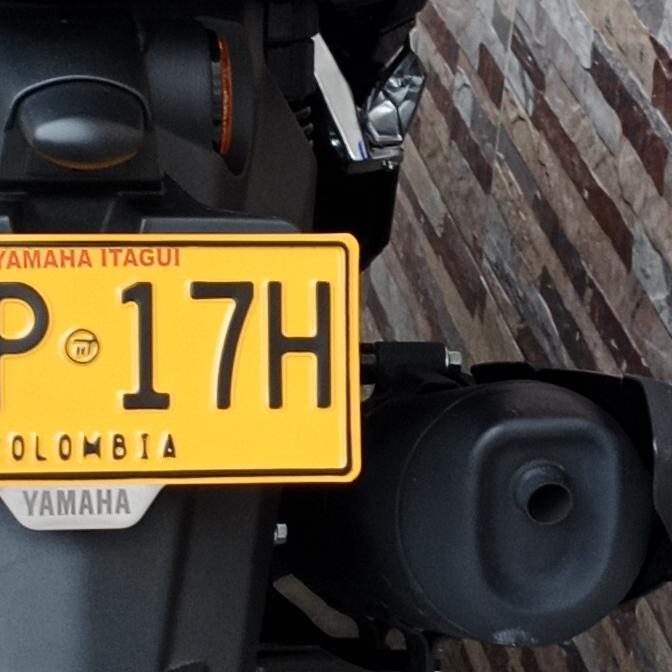plates: (0, 238, 370, 490)
